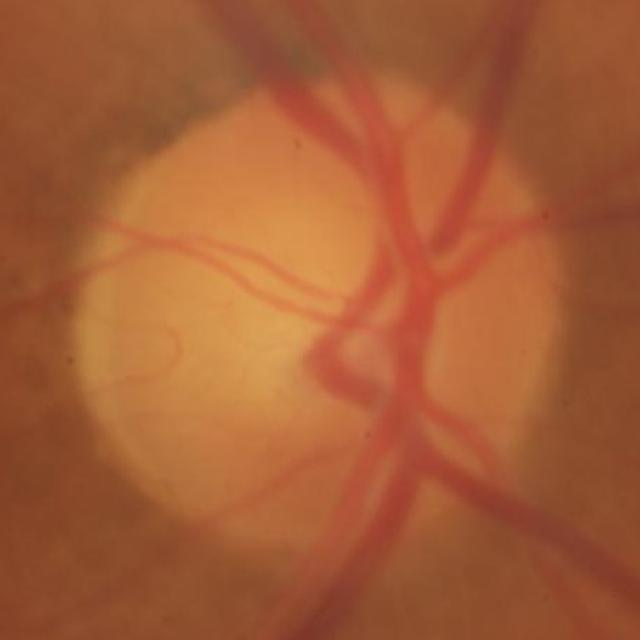OC: (224, 195, 443, 434)
OD: (74, 85, 568, 570)
